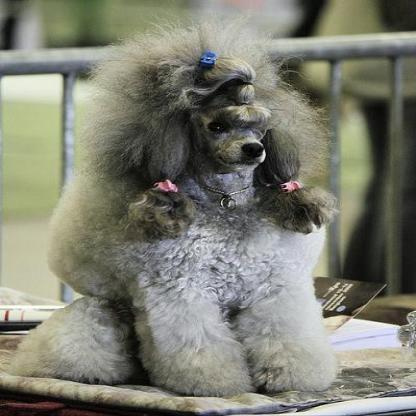miniature_poodle: (7, 16, 336, 395)
